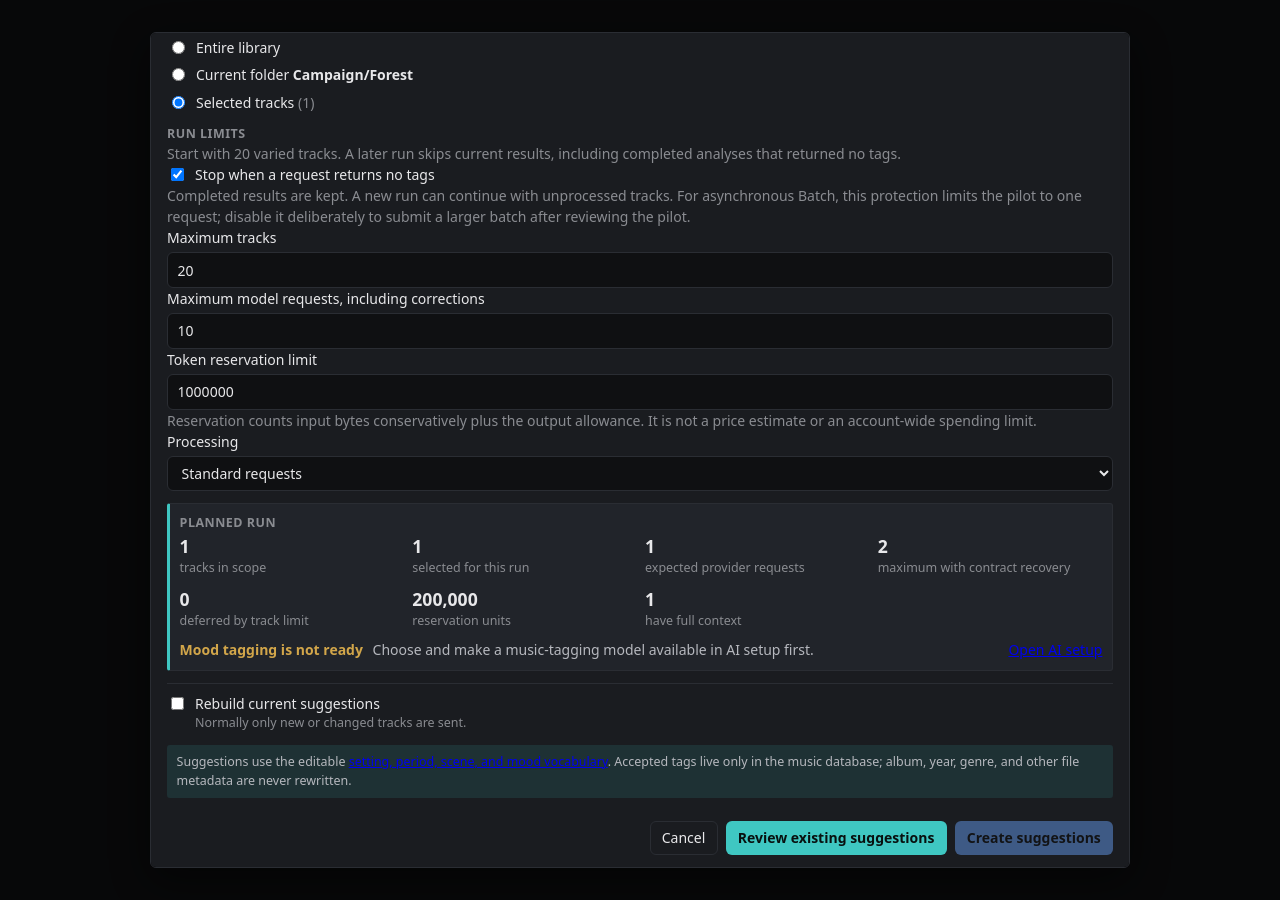
MoodTaggingDialog › keeps existing database suggestions reviewable when the model is unavailable
(page scrolled)
Expected: the button "Create suggestions" is disabled, [955, 821, 1113, 855]
Click the button "Review existing suggestions": (836, 838) [726, 821, 947, 855]
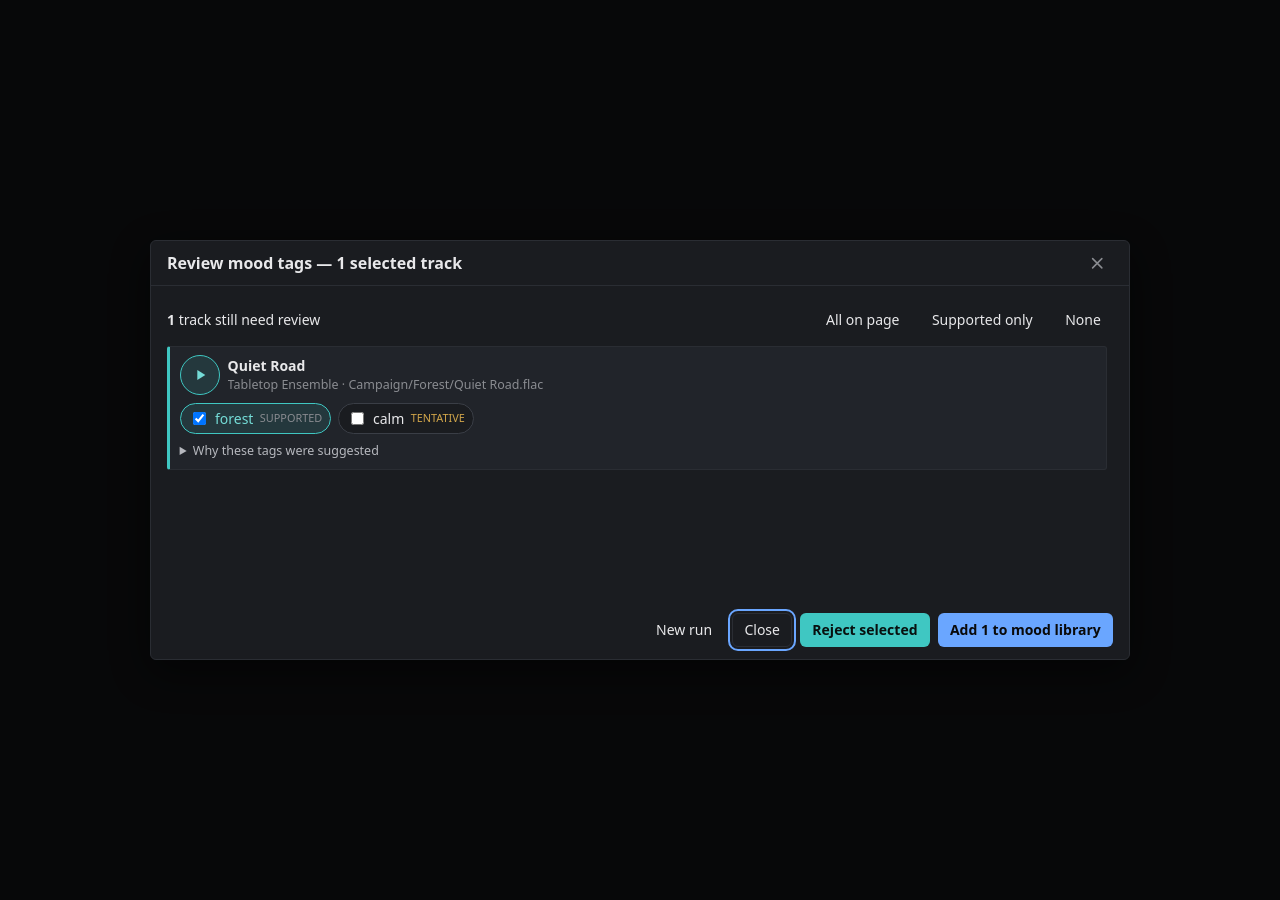
Expected: the text "Quiet Road" is shown, [228, 356, 305, 375]
